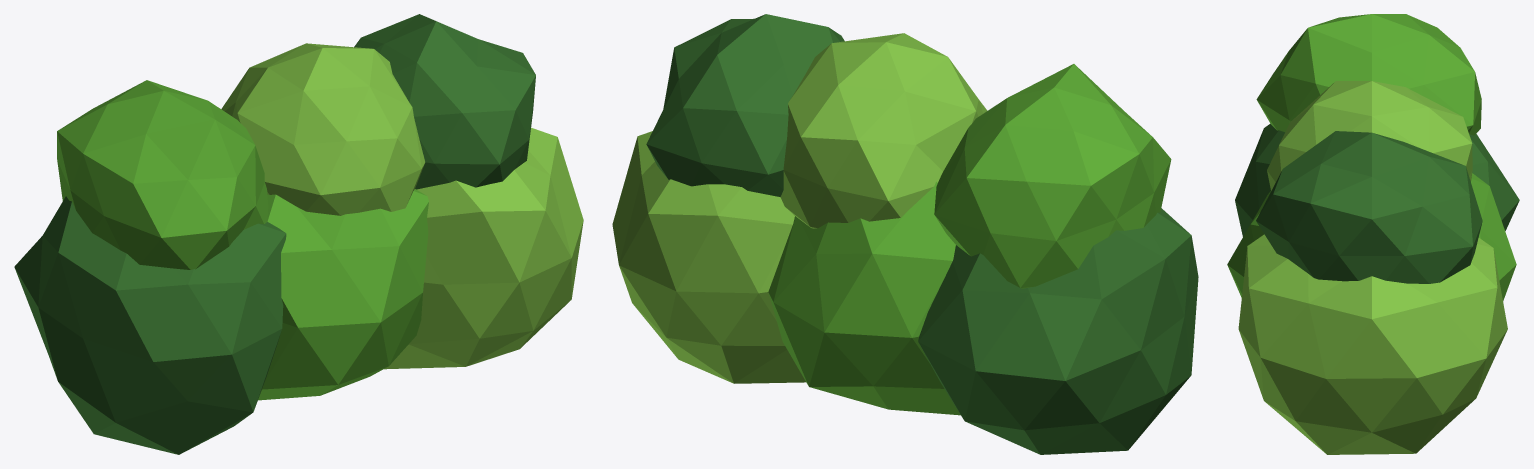
The model's file is hedge_end_1.glb.
3 renders of one model, left to right at view 1: azimuth 30°, elevation 25°; view 2: azimuth 150°, elevation 25°; view 3: azimuth 270°, elevation 25°, orthographic. The views are drawn at different scales.
Parts seen in each view (by area): view 1: hedge_end_1; view 2: hedge_end_1; view 3: hedge_end_1.
Part boxes in pixels (box(x1,y1,x2,y2)): hedge_end_1: box(14, 14, 583, 454); hedge_end_1: box(612, 14, 1198, 454); hedge_end_1: box(1227, 14, 1519, 454).
Size of what is drawn, in the model's own units: 2.31 by 1.48 by 1.28.
